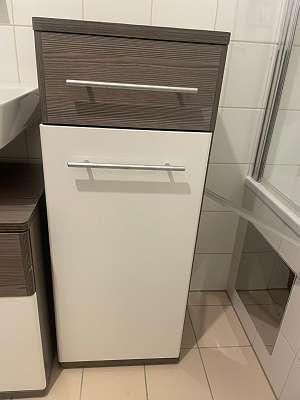cabinet_door: (49, 127, 196, 356), (43, 37, 219, 129)
handle: (60, 74, 201, 101), (62, 154, 189, 178)
